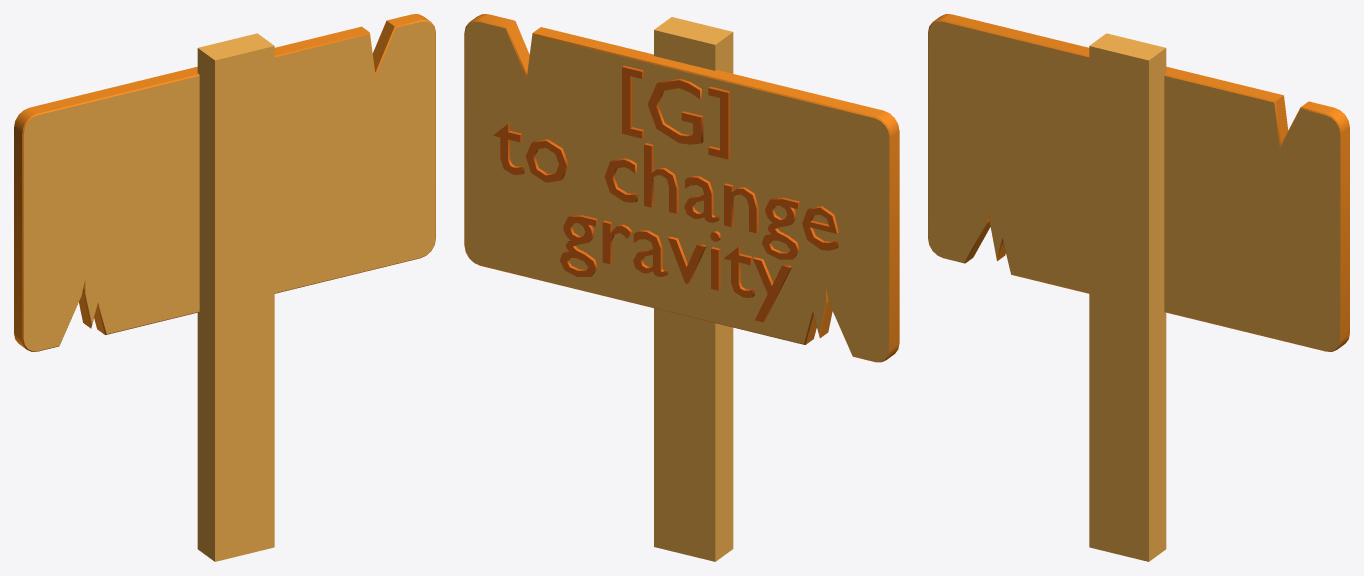
File: Sign.fbx
The picture shows the model from 3 angles, left to right: view 1: azimuth 30°, elevation 25°; view 2: azimuth 150°, elevation 25°; view 3: azimuth 330°, elevation 25°; orthographic projection. The views are drawn at different scales.
Visible parts, largest first — view 1: Sign; view 2: Sign, SignText; view 3: Sign.
Part boxes in pixels (left/top/right/bottom): Sign: left=14, top=14, right=435, bottom=561; Sign: left=464, top=14, right=899, bottom=561; SignText: left=493, top=65, right=838, bottom=322; Sign: left=928, top=14, right=1349, bottom=561.
Bounding box in the file's own units: 0.5398 × 0.0599 × 0.625.
